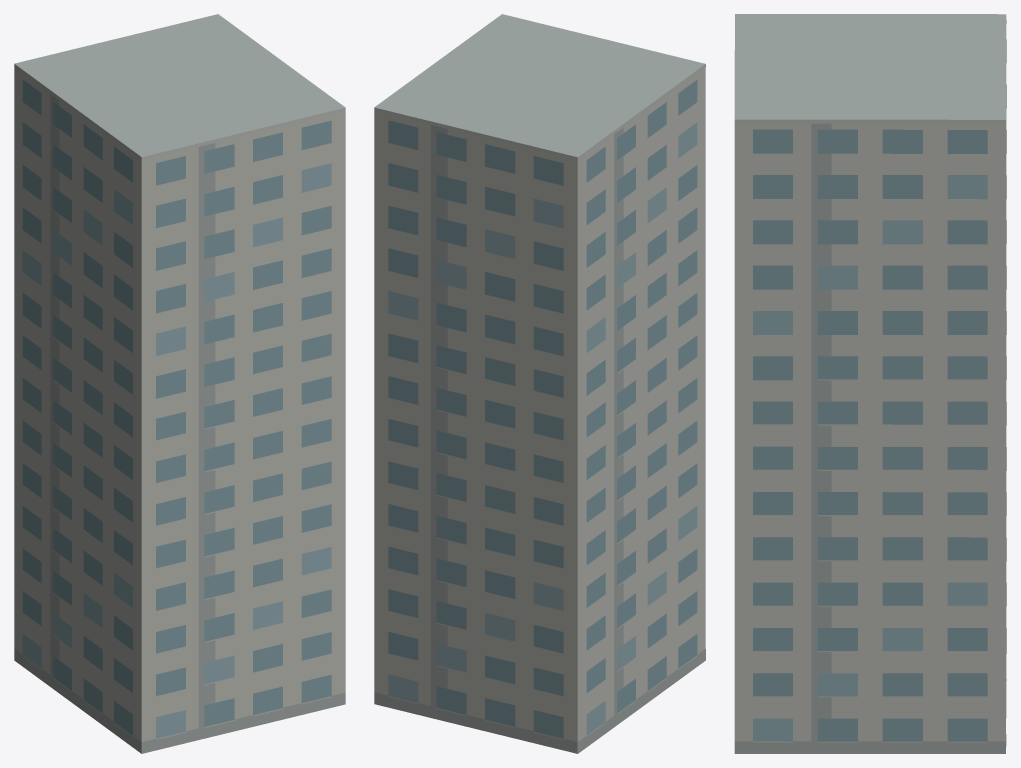
The model's file is residential-3400809b-9e40-4336-aa9c-012194e746f5.glb.
The picture shows the model from 3 angles, left to right: view 1: azimuth 30°, elevation 25°; view 2: azimuth 150°, elevation 25°; view 3: azimuth 270°, elevation 25°; orthographic projection. The views are drawn at different scales.
Visible parts, largest first — view 1: residential-3400809b-9e40-4336-aa9c-012194e746f5.tmp; view 2: residential-3400809b-9e40-4336-aa9c-012194e746f5.tmp; view 3: residential-3400809b-9e40-4336-aa9c-012194e746f5.tmp.
Part boxes in pixels (x1,y1,x2,y2): residential-3400809b-9e40-4336-aa9c-012194e746f5.tmp: (14,14,345,753); residential-3400809b-9e40-4336-aa9c-012194e746f5.tmp: (374,14,705,753); residential-3400809b-9e40-4336-aa9c-012194e746f5.tmp: (734,14,1006,753).
Size of the model in its own units: 14.7 by 41 by 15.95.
